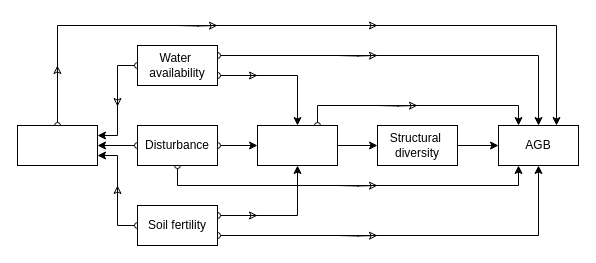
Image size: 596x263. Some labels were removed from this diagram. The shapes that lost their labels are listed below. From the top down, each one's box as (x1, y1, x2, y2) in pixels, then its label:
(16, 124, 98, 166): Stem density
(256, 124, 338, 166): Species diversity
